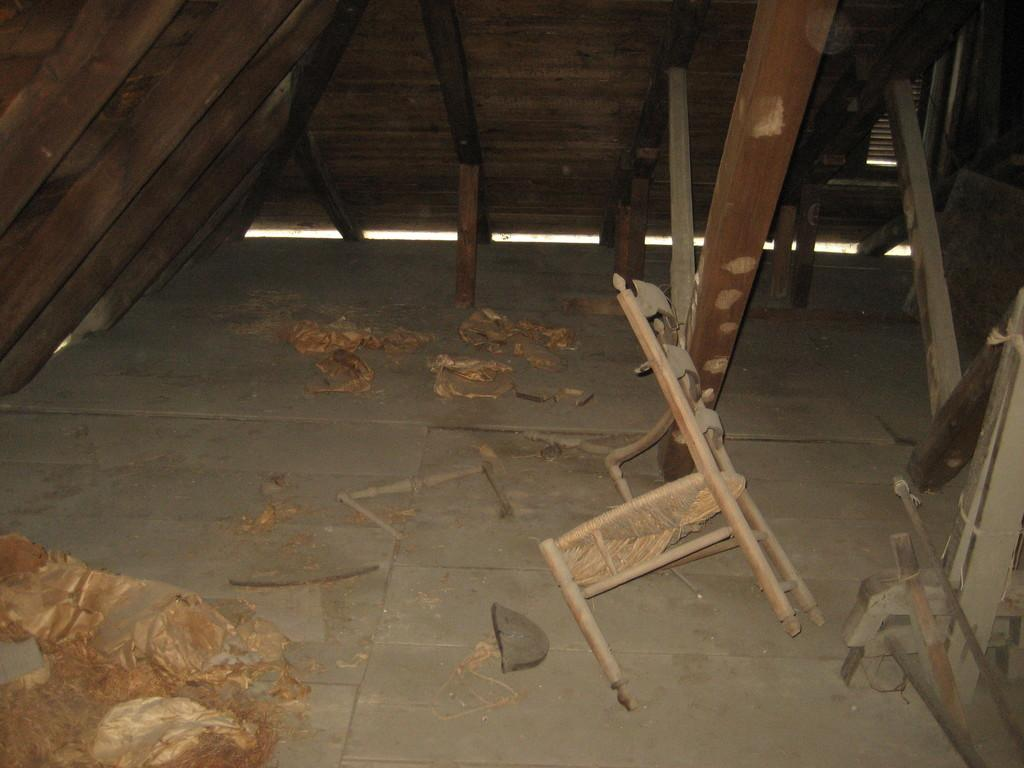Chair: (527, 240, 828, 689)
